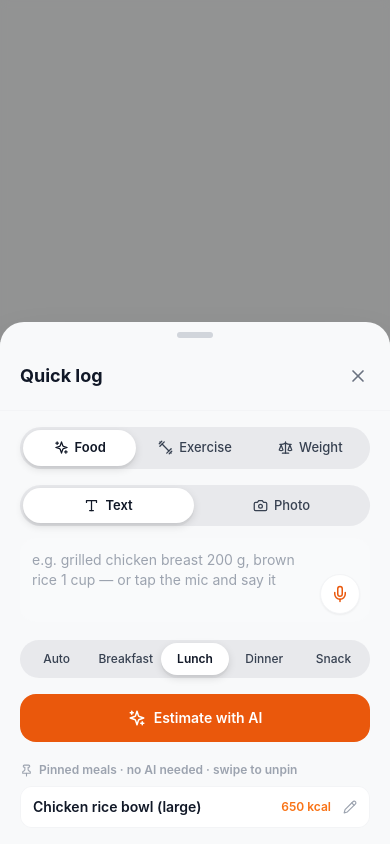
it: LogModal pinning an AI estimate › says so instead of offering the toggle when the same meal is already pinned
Replace the text in the text box with placeholder "grilled chicken" with "chicken rice bowl" at (195, 580), box x1=20 y1=538 x2=370 y2=622
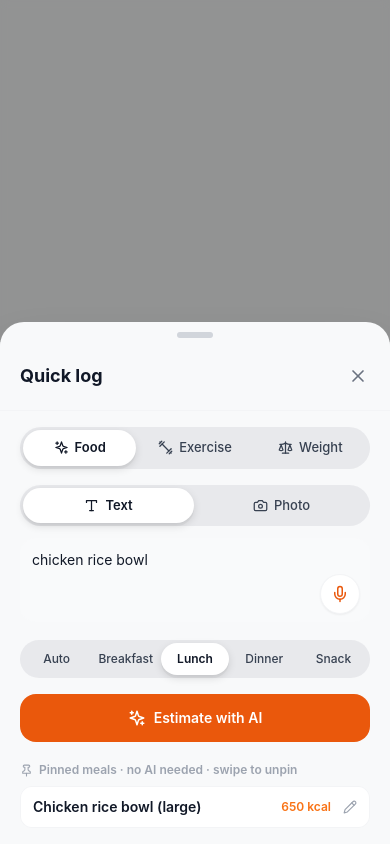
Click the button "Estimate with AI" at (195, 718), box x1=20 y1=694 x2=370 y2=742
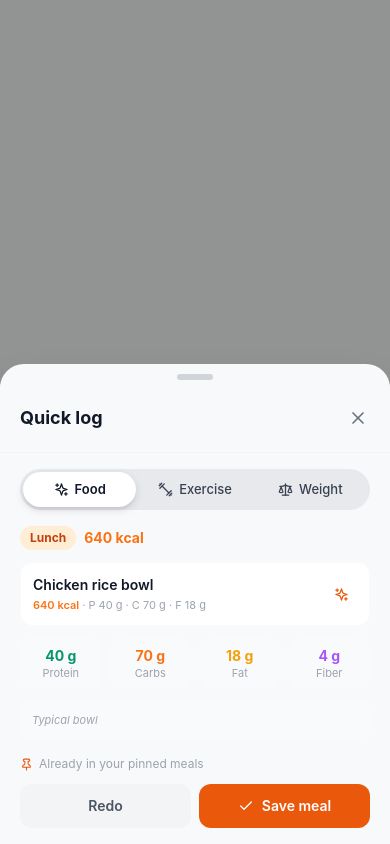
Now the button "Save meal" is shown, box x1=199 y1=784 x2=370 y2=828
Now the text "Already in your pinned meals" is shown, box x1=20 y1=756 x2=204 y2=771
Now the button "Pin this meal" is gone
